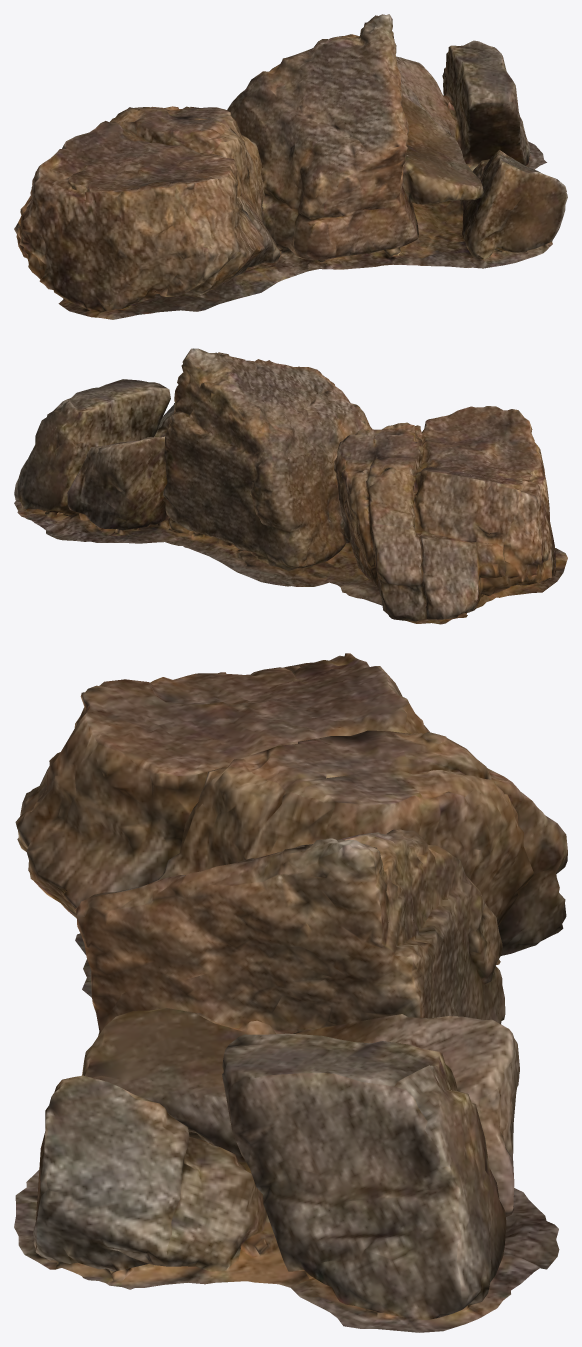
The model's file is namaqualand_boulder_02.glb.
3 views of the same model, one above another, from view 1: azimuth 30°, elevation 25°; view 2: azimuth 150°, elevation 25°; view 3: azimuth 270°, elevation 25° (orthographic). The views are drawn at different scales.
Visible parts, largest first — view 1: boulder_02; view 2: boulder_02; view 3: boulder_02.
Boxes of the visible parts, x1,y1,x2,y2 form: boulder_02: (14,14,567,319); boulder_02: (14,348,567,624); boulder_02: (14,653,567,1332).
Bounding box in the file's own units: 2.53 × 0.8826 × 1.23.
Materials: 1 (1 with a texture image).
